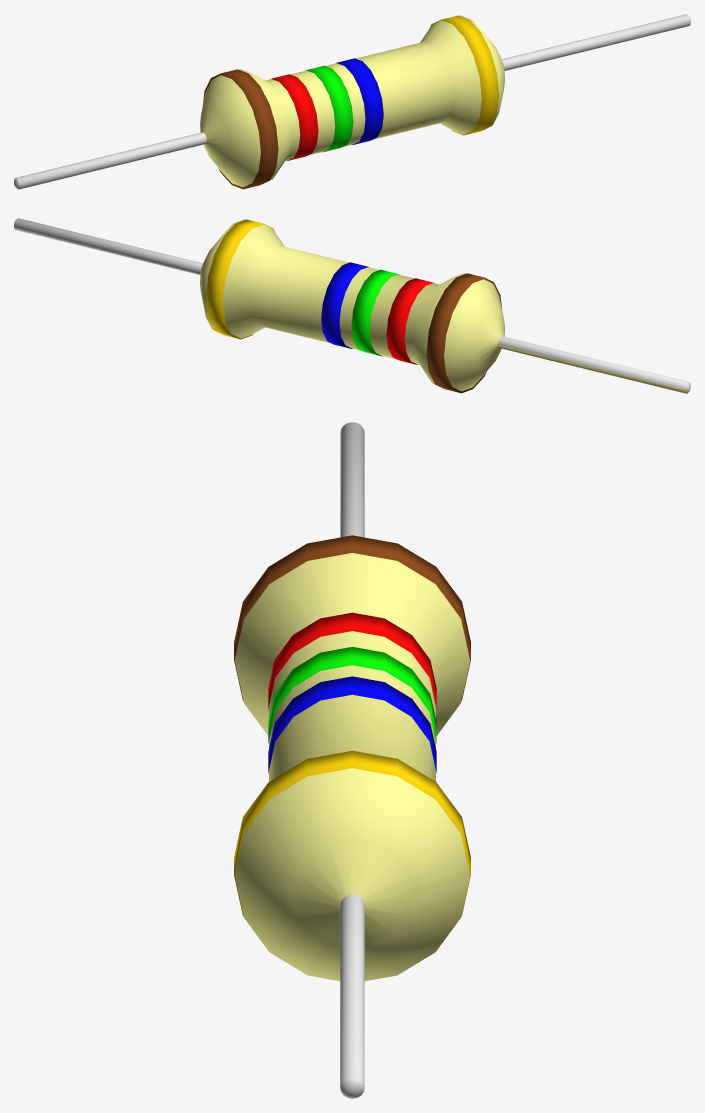
File: resistor.glb
The picture shows the model from 3 angles, top to bottom: view 1: azimuth 30°, elevation 25°; view 2: azimuth 150°, elevation 25°; view 3: azimuth 270°, elevation 25°; orthographic projection. The views are drawn at different scales.
Visible parts, largest first — view 1: rstBody, rstConnect, rstRow1, rstRow5, rstRow2, rstRow3, rstRow4; view 2: rstBody, rstConnect, rstRow1, rstRow5, rstRow2, rstRow3, rstRow4; view 3: rstBody, rstConnect, rstRow5, rstRow1, rstRow2, rstRow3, rstRow4.
Boxes of the visible parts, <box> form: rstBody: <box>200,15,504,187</box>; rstConnect: <box>14,14,690,189</box>; rstRow1: <box>202,69,278,189</box>; rstRow5: <box>430,15,498,135</box>; rstRow2: <box>270,74,318,160</box>; rstRow3: <box>305,65,353,152</box>; rstRow4: <box>336,58,383,144</box>; rstBody: <box>200,219,687,393</box>; rstConnect: <box>14,218,690,392</box>; rstRow1: <box>426,273,502,393</box>; rstRow5: <box>206,219,274,339</box>; rstRow2: <box>386,278,434,364</box>; rstRow3: <box>351,269,399,356</box>; rstRow4: <box>321,262,368,348</box>; rstBody: <box>235,553,469,981</box>; rstConnect: <box>340,422,364,1098</box>; rstRow5: <box>234,750,470,916</box>; rstRow1: <box>234,535,470,700</box>; rstRow2: <box>268,612,436,709</box>; rstRow3: <box>268,647,436,743</box>; rstRow4: <box>268,676,436,772</box>.
Size of the model in its own units: 1.32 by 0.2011 by 0.2011.
